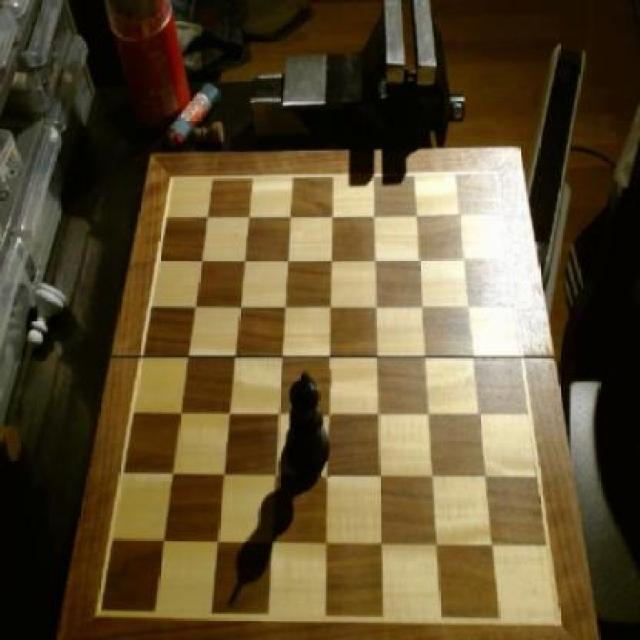black-bishop: (285, 368, 332, 482)
